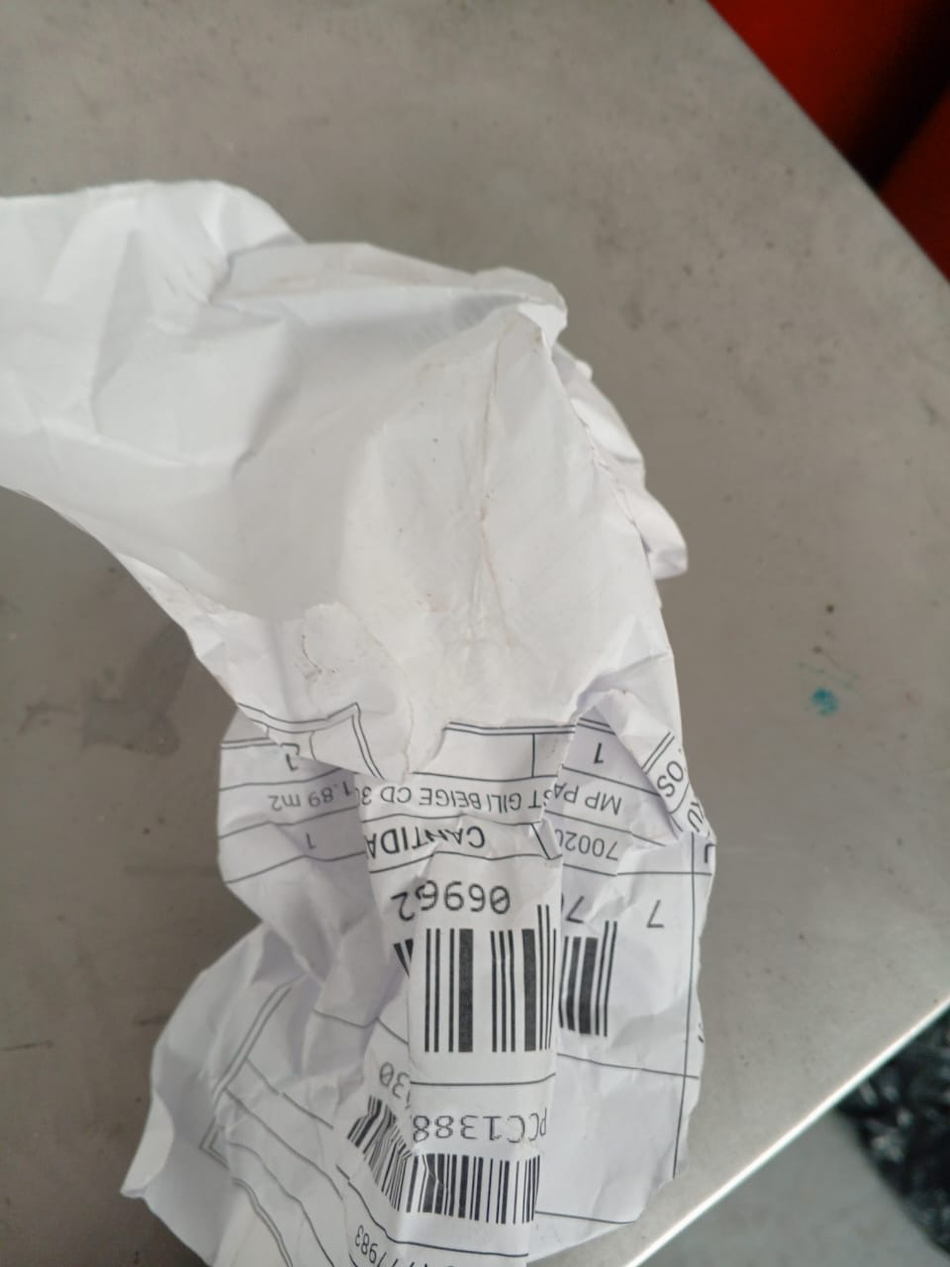Papel: (4, 178, 719, 1265)
